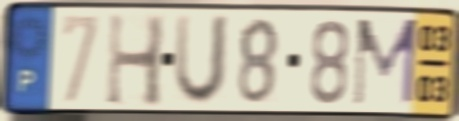7: (59, 11, 105, 107)
8: (235, 16, 282, 106), (309, 17, 351, 107)
H: (104, 10, 169, 110)
M: (349, 16, 421, 110)
U: (171, 12, 233, 109)
